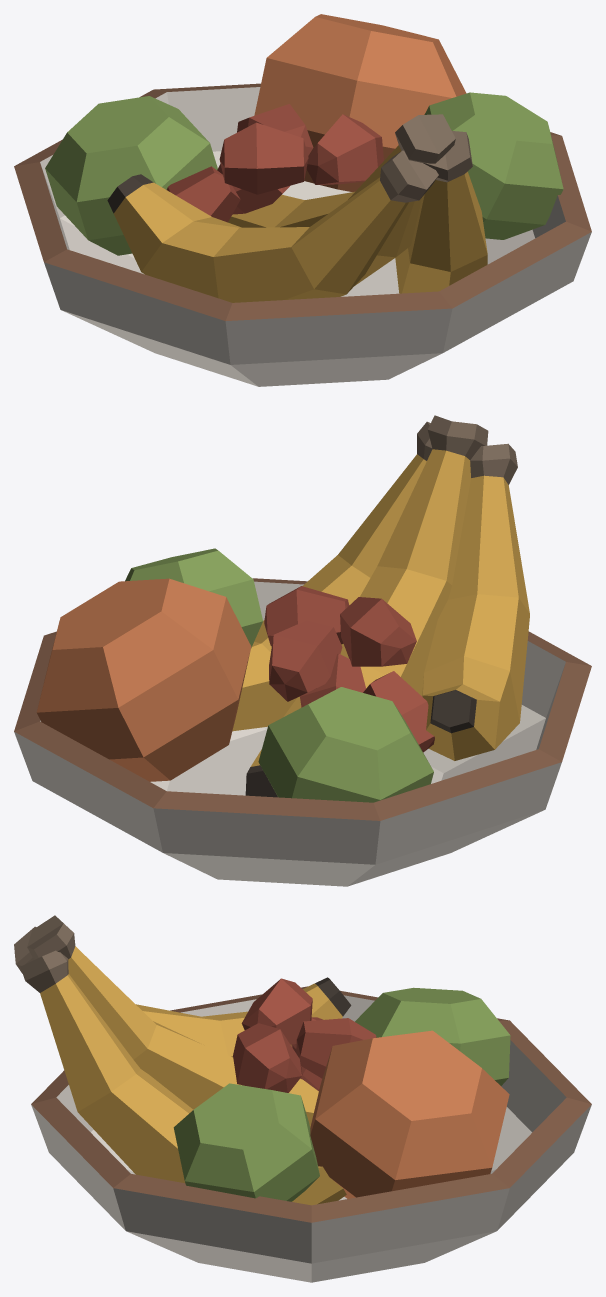
The model's file is SM_Prop_FruitBowl_01.fbx.
3 views of the same model, one above another, from view 1: azimuth 30°, elevation 25°; view 2: azimuth 150°, elevation 25°; view 3: azimuth 270°, elevation 25° (orthographic). The views are drawn at different scales.
Parts seen in each view (by area): view 1: SM_Prop_FruitBowl_01; view 2: SM_Prop_FruitBowl_01; view 3: SM_Prop_FruitBowl_01.
Part boxes in pixels (x1,y1,x2,y2): SM_Prop_FruitBowl_01: [14, 14, 591, 386]; SM_Prop_FruitBowl_01: [14, 415, 591, 886]; SM_Prop_FruitBowl_01: [14, 915, 591, 1282].
Size of the model in its own units: 43.53 by 24.31 by 44.85.
